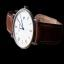watch: (11, 3, 37, 52)
